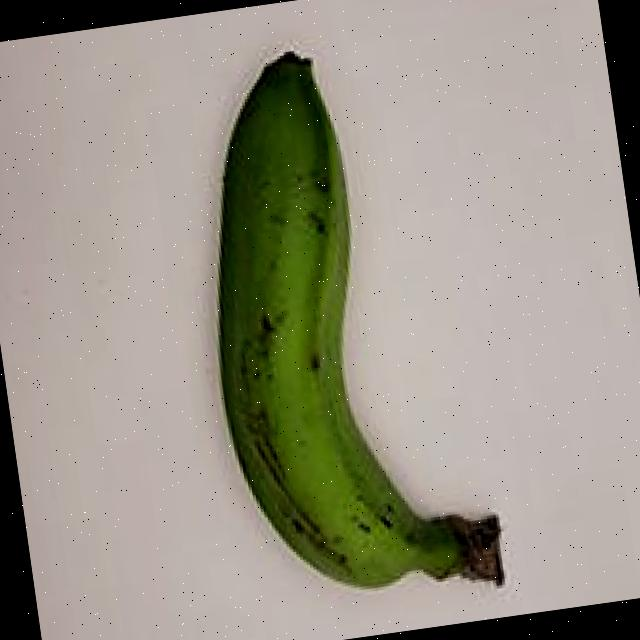Raw: (138, 3, 530, 640)
